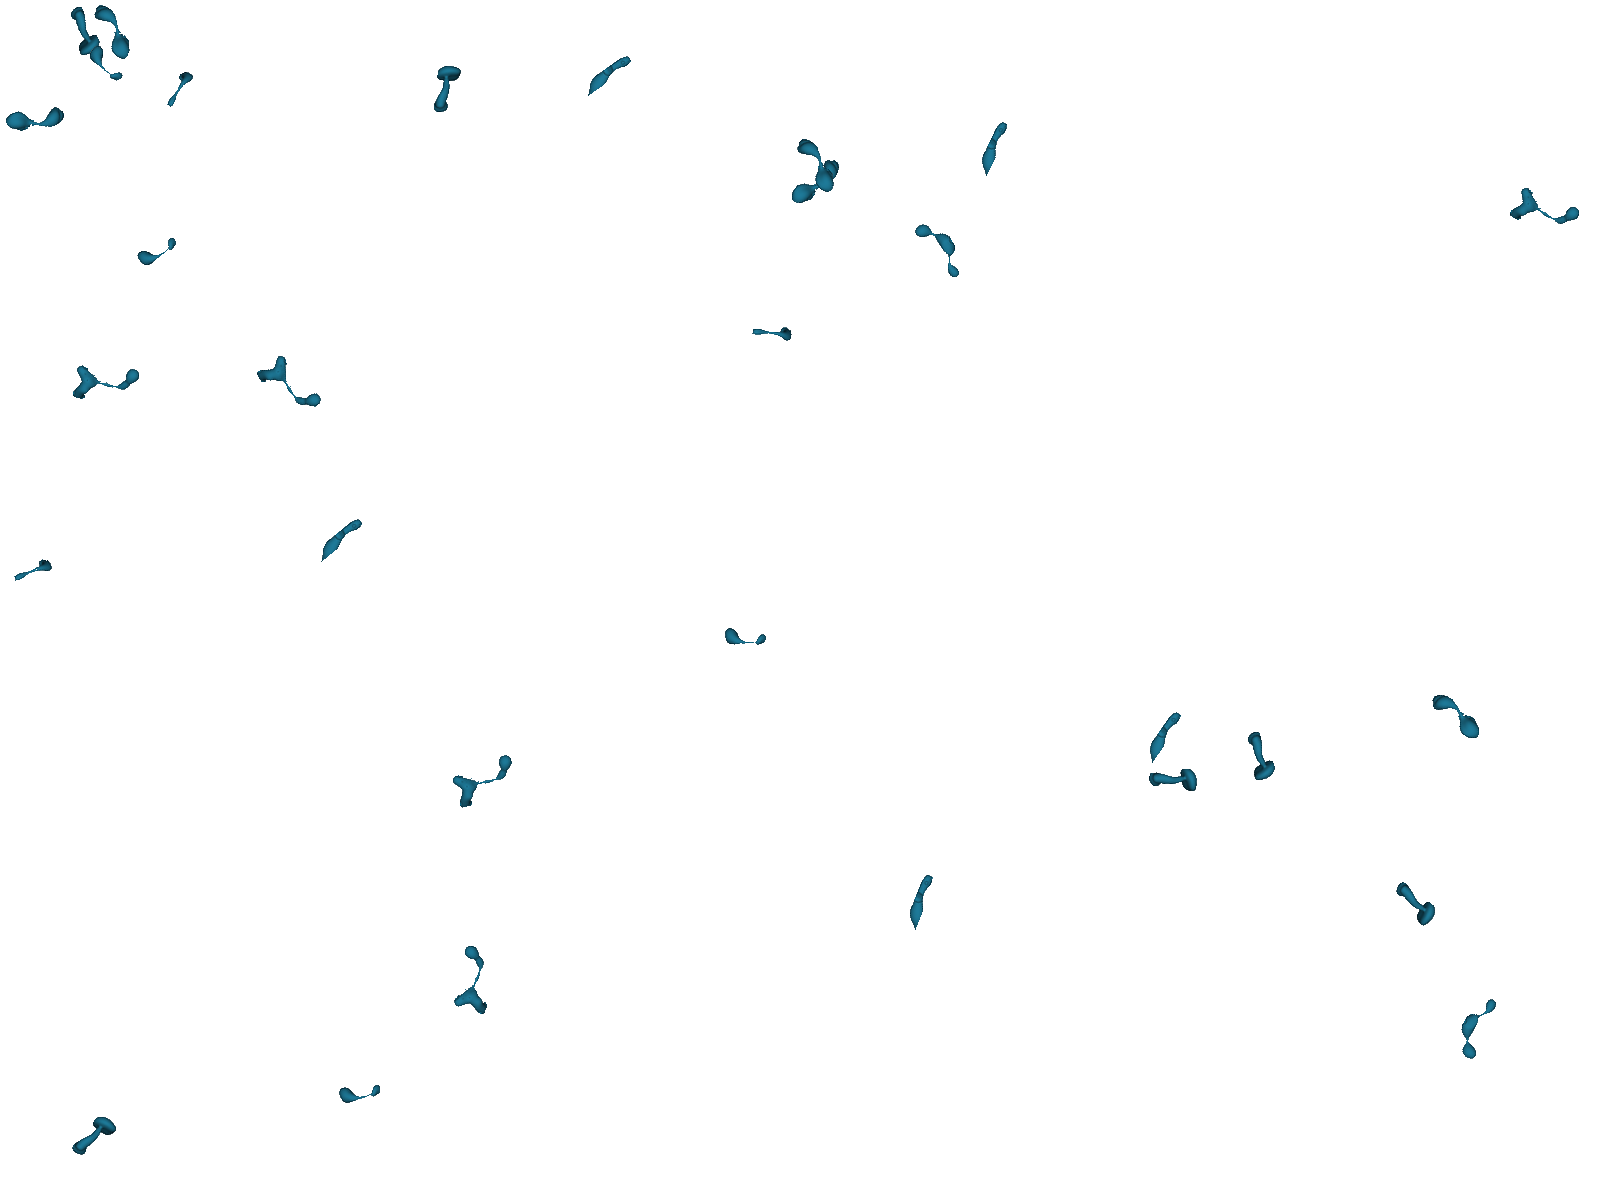Detached ligament: (252, 344, 326, 425), (1503, 174, 1584, 247), (441, 942, 506, 1021), (1443, 989, 1507, 1066), (910, 209, 973, 285), (443, 751, 522, 811), (66, 353, 142, 411), (784, 134, 845, 198), (81, 0, 141, 66), (785, 147, 844, 213), (1422, 689, 1488, 745), (3, 93, 68, 141), (1385, 879, 1441, 930), (309, 513, 367, 563), (1136, 707, 1186, 766), (69, 1111, 121, 1166), (576, 50, 635, 98), (58, 3, 105, 61), (970, 118, 1012, 179), (1235, 729, 1279, 785), (900, 871, 937, 933), (83, 42, 126, 87), (134, 234, 181, 271), (1146, 766, 1199, 798), (433, 63, 464, 116), (10, 555, 54, 589), (163, 68, 195, 113), (721, 626, 767, 650), (336, 1082, 382, 1105), (750, 325, 792, 342)
